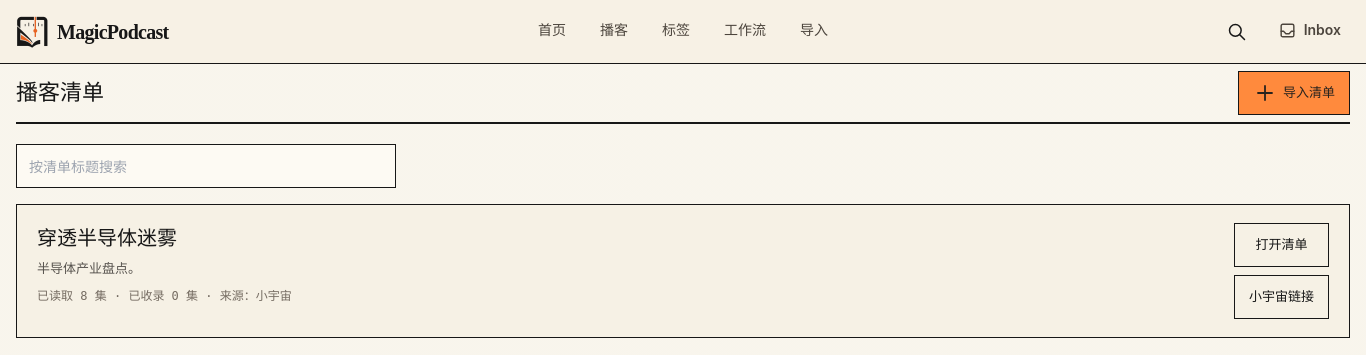
Scenario: CollectionsContent › searches by title and restores the full list after clearing
In the search field labelled "按清单标题搜索": (206, 166) top-left (16, 144), bottom-right (396, 188), type "芯片"
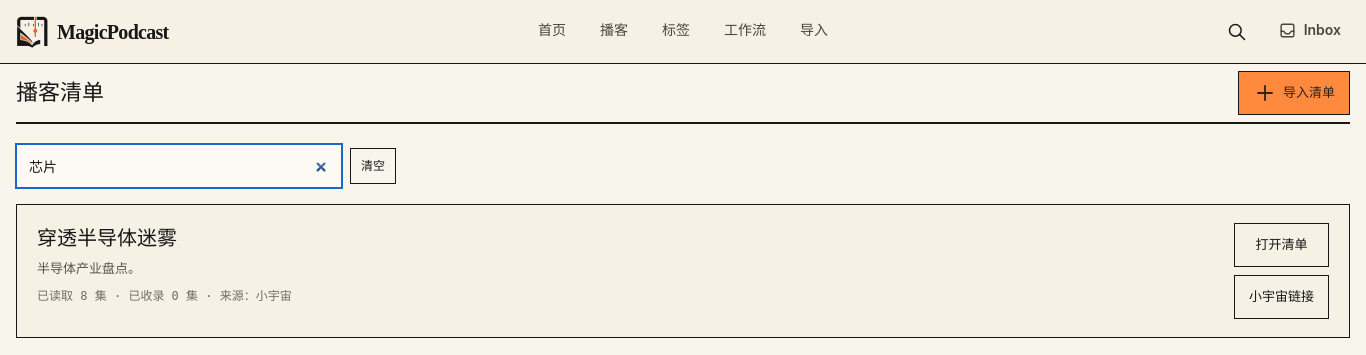
Click the button with aria-label "清空搜索并恢复列表": click(373, 166) top-left (350, 148), bottom-right (396, 184)
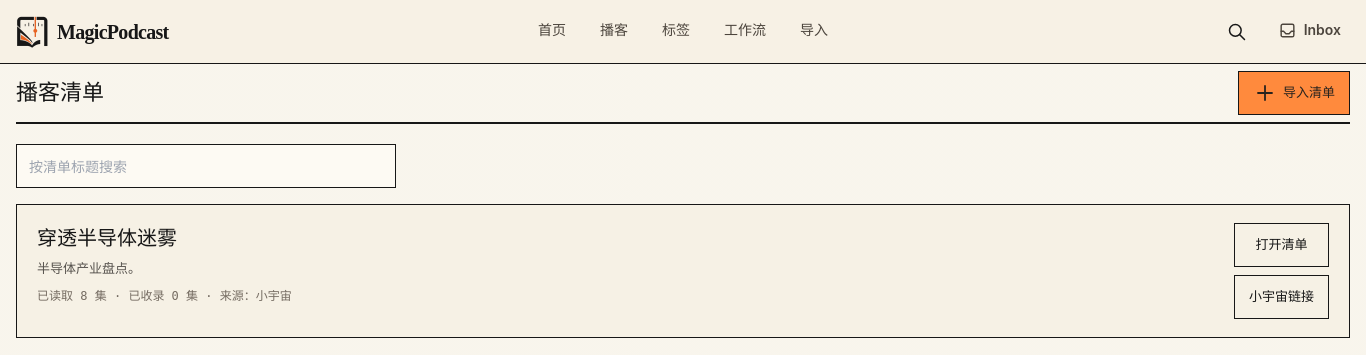
Now the search field labelled "按清单标题搜索" is empty, box top-left (16, 144), bottom-right (396, 188)
